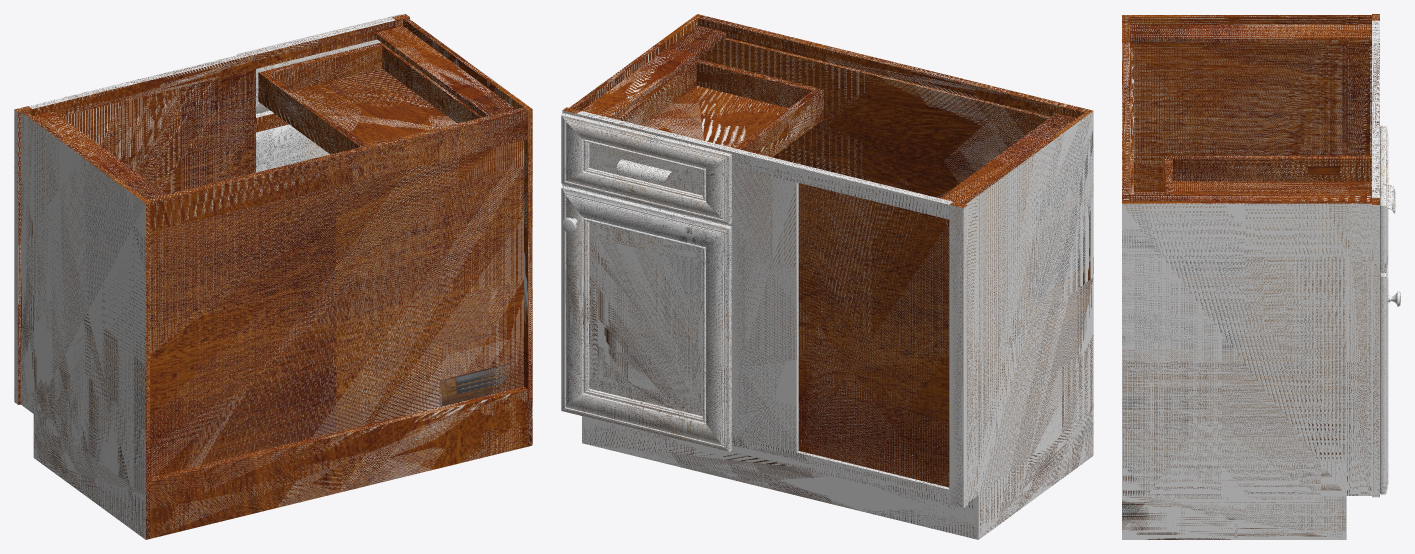
3 renders of one model, left to right at view 1: azimuth 30°, elevation 25°; view 2: azimuth 150°, elevation 25°; view 3: azimuth 270°, elevation 25°, orthographic. The views are drawn at different scales.
Parts seen in each view (by area): view 1: mesh5_mesh5-geometry, mesh8_mesh8-geometry, mesh14_mesh14-geometry, mesh4_mesh4-geometry, mesh19_mesh19-geometry, mesh18_mesh18-geometry, mesh23_mesh23-geometry, mesh6_mesh6-geometry, mesh20_mesh20-geometry, mesh9_mesh9-geometry, mesh7_mesh7-geometry, mesh11_mesh11-geometry (+7 smaller); view 2: mesh18_mesh18-geometry, mesh8_mesh8-geometry, mesh5_mesh5-geometry, mesh19_mesh19-geometry, mesh44_mesh44-geometry, mesh15_mesh15-geometry, mesh6_mesh6-geometry, mesh4_mesh4-geometry, mesh3_mesh3-geometry, mesh9_mesh9-geometry, mesh42_mesh42-geometry, mesh43_mesh43-geometry (+23 smaller); view 3: mesh11_mesh11-geometry, mesh8_mesh8-geometry, mesh12_mesh12-geometry, mesh10_mesh10-geometry, mesh20_mesh20-geometry, mesh17_mesh17-geometry, mesh7_mesh7-geometry, mesh23_mesh23-geometry, mesh3_mesh3-geometry, mesh16_mesh16-geometry, mesh4_mesh4-geometry, mesh6_mesh6-geometry (+6 smaller).
Part boxes in pixels (box(x1,y1,x2,y2)): mesh5_mesh5-geometry: box(150, 140, 523, 477); mesh8_mesh8-geometry: box(33, 120, 150, 495); mesh14_mesh14-geometry: box(150, 386, 527, 538); mesh4_mesh4-geometry: box(147, 107, 527, 231); mesh19_mesh19-geometry: box(181, 69, 255, 190); mesh18_mesh18-geometry: box(61, 87, 181, 194); mesh23_mesh23-geometry: box(293, 68, 456, 145); mesh6_mesh6-geometry: box(28, 17, 395, 116); mesh20_mesh20-geometry: box(258, 42, 482, 154); mesh9_mesh9-geometry: box(33, 414, 150, 539); mesh7_mesh7-geometry: box(20, 111, 37, 413); mesh11_mesh11-geometry: box(415, 27, 532, 402); mesh18_mesh18-geometry: box(798, 183, 949, 487); mesh8_mesh8-geometry: box(974, 109, 1093, 494); mesh5_mesh5-geometry: box(698, 37, 1050, 198); mesh19_mesh19-geometry: box(720, 166, 798, 452); mesh44_mesh44-geometry: box(598, 239, 694, 398); mesh15_mesh15-geometry: box(587, 417, 973, 538); mesh6_mesh6-geometry: box(576, 111, 952, 504); mesh4_mesh4-geometry: box(698, 15, 1088, 117); mesh3_mesh3-geometry: box(562, 107, 967, 507); mesh9_mesh9-geometry: box(973, 411, 1093, 539); mesh42_mesh42-geometry: box(561, 231, 598, 374); mesh43_mesh43-geometry: box(694, 263, 731, 408); mesh11_mesh11-geometry: box(1122, 201, 1346, 495); mesh8_mesh8-geometry: box(1122, 15, 1346, 191); mesh12_mesh12-geometry: box(1122, 496, 1346, 539); mesh10_mesh10-geometry: box(1346, 201, 1371, 495); mesh20_mesh20-geometry: box(1165, 155, 1371, 181); mesh17_mesh17-geometry: box(1130, 24, 1371, 43); mesh7_mesh7-geometry: box(1346, 15, 1371, 155); mesh23_mesh23-geometry: box(1173, 181, 1371, 194); mesh3_mesh3-geometry: box(1372, 14, 1379, 497); mesh16_mesh16-geometry: box(1130, 195, 1371, 201); mesh4_mesh4-geometry: box(1122, 17, 1129, 201); mesh6_mesh6-geometry: box(1372, 20, 1379, 197).
Size of the model in its own units: 0.6974 by 0.5729 by 0.4307.
